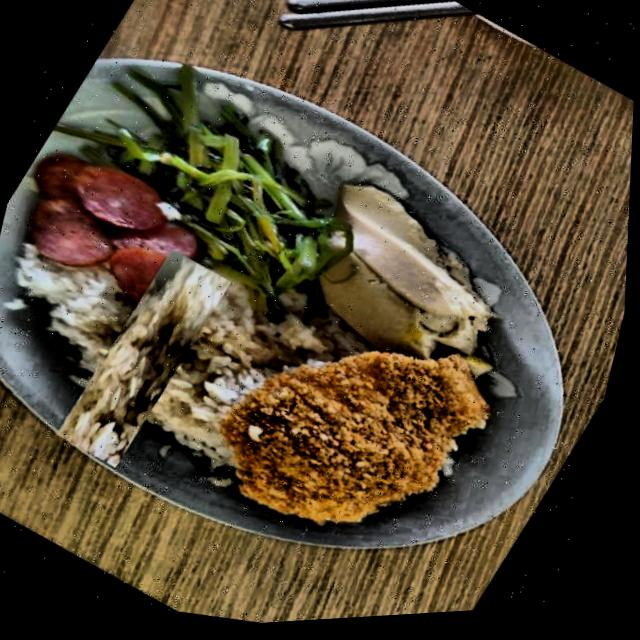Food: (0, 120, 269, 358), (82, 62, 361, 283), (38, 251, 256, 471)
